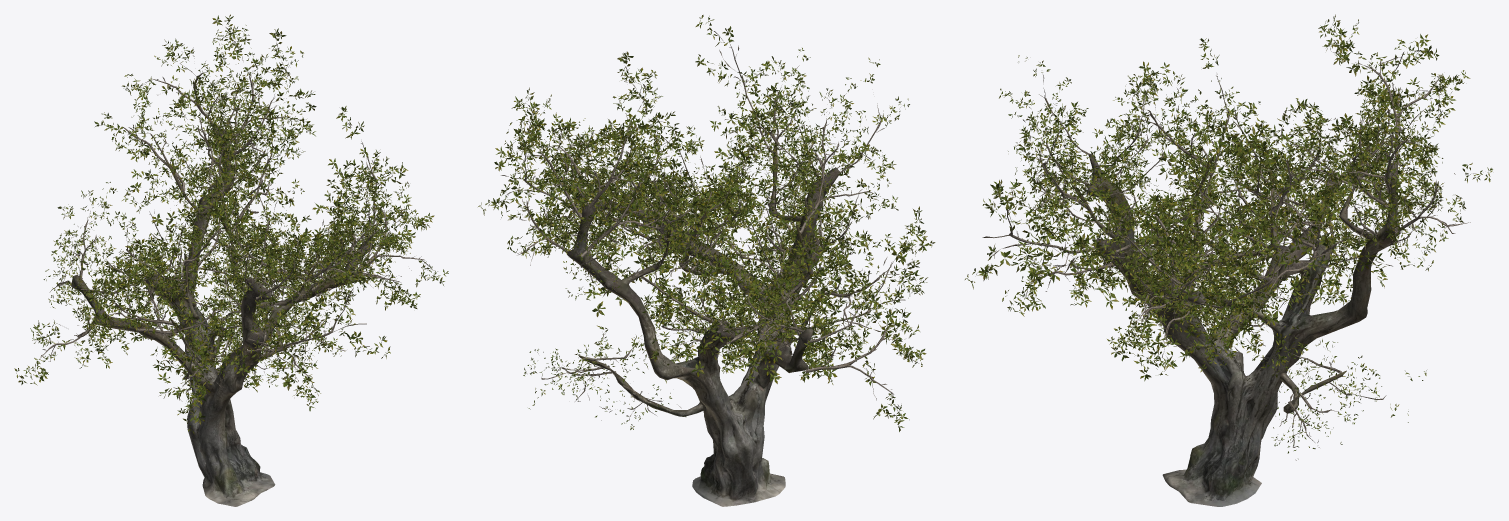
Rendered from tree_01.glb.
3 views of the same model, side by side, from view 1: azimuth 30°, elevation 25°; view 2: azimuth 150°, elevation 25°; view 3: azimuth 270°, elevation 25° (orthographic). The views are drawn at different scales.
Visible parts, largest first — view 1: island_tree_01_LOD0; view 2: island_tree_01_LOD0; view 3: island_tree_01_LOD0.
Part boxes in pixels (bbox=[...]): island_tree_01_LOD0: bbox=[14, 14, 448, 506]; island_tree_01_LOD0: bbox=[478, 15, 935, 506]; island_tree_01_LOD0: bbox=[965, 14, 1492, 506].
Bounding box in the file's own units: 4.74 × 5.02 × 4.82.
3 materials, 3 textured.
